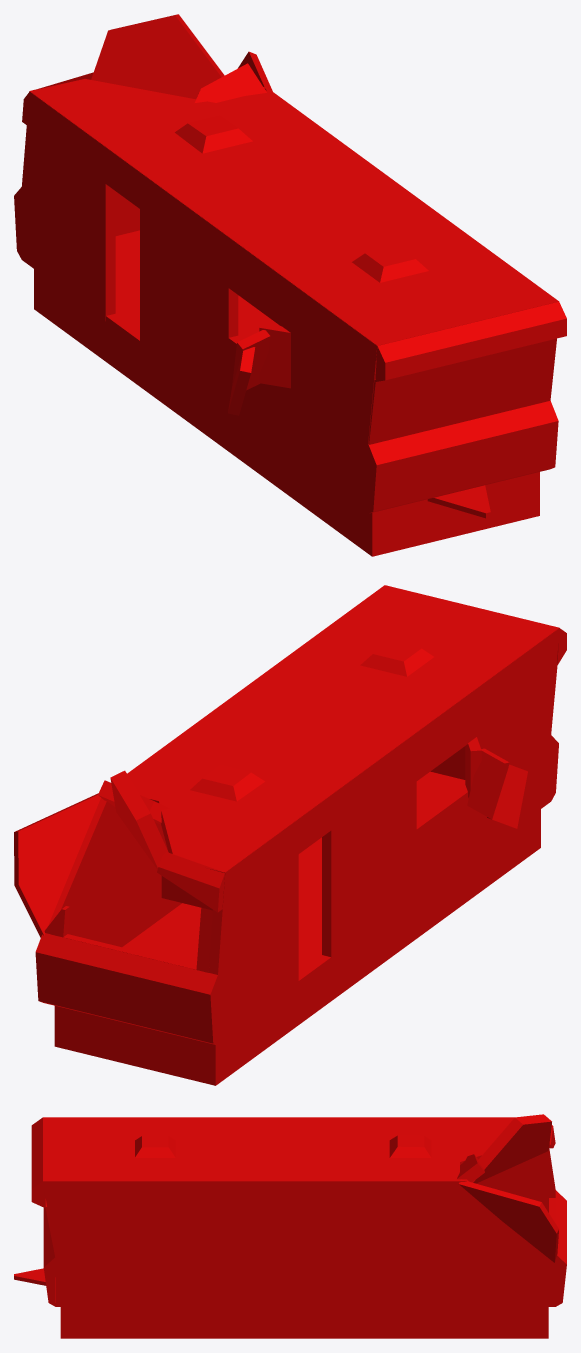
The model's file is SM_Bld_Trailer_Damaged_02_Collision.fbx.
3 renders of one model, top to bottom at view 1: azimuth 30°, elevation 25°; view 2: azimuth 150°, elevation 25°; view 3: azimuth 270°, elevation 25°, orthographic. The views are drawn at different scales.
Visible parts, largest first — view 1: SM_Bld_Trailer_Damaged_02_Collision; view 2: SM_Bld_Trailer_Damaged_02_Collision; view 3: SM_Bld_Trailer_Damaged_02_Collision.
Boxes of the visible parts, <box> form: SM_Bld_Trailer_Damaged_02_Collision: <box>14,14,566,556</box>; SM_Bld_Trailer_Damaged_02_Collision: <box>14,585,566,1085</box>; SM_Bld_Trailer_Damaged_02_Collision: <box>14,1114,566,1338</box>.
Bounding box in the file's own units: 493 × 482 × 1187.
